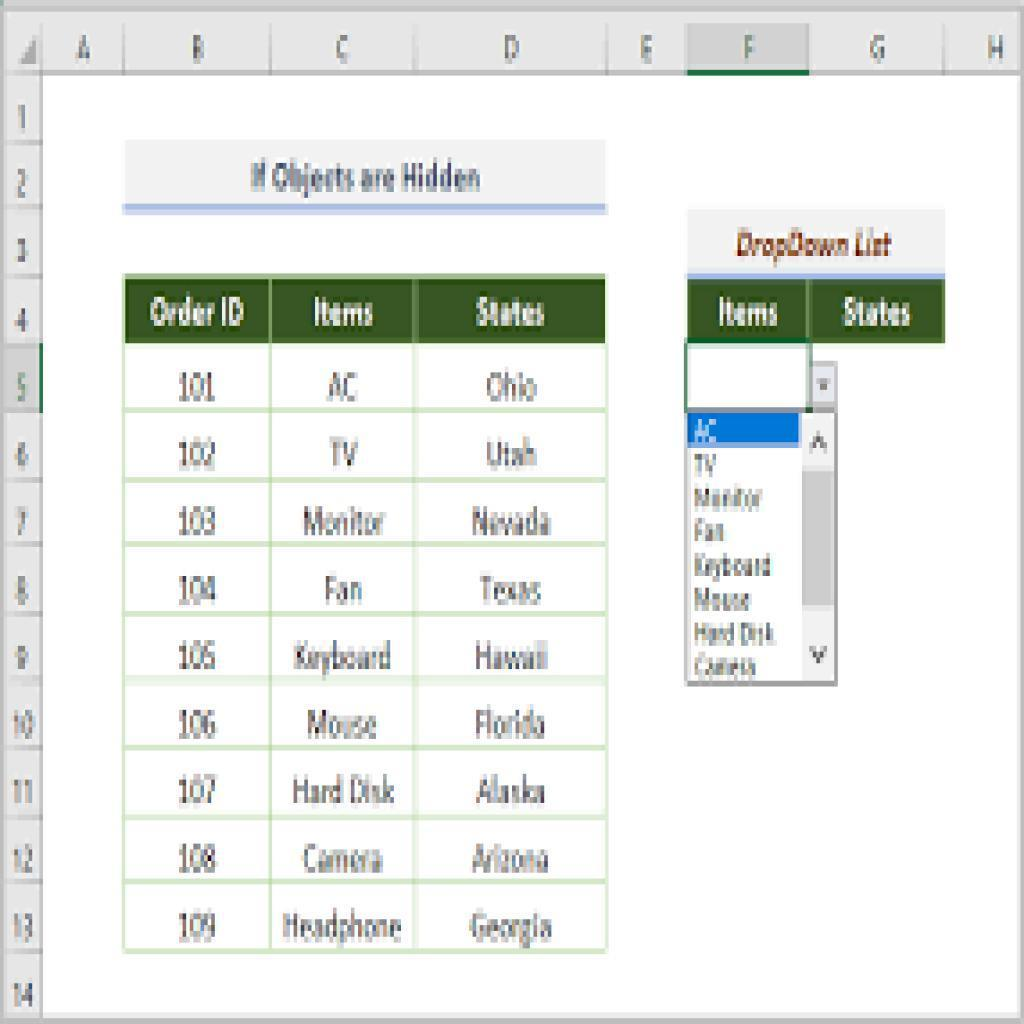button: (810, 278, 945, 345), (690, 280, 808, 343)
dropdown: (687, 342, 838, 410)
table: (126, 273, 610, 954)
